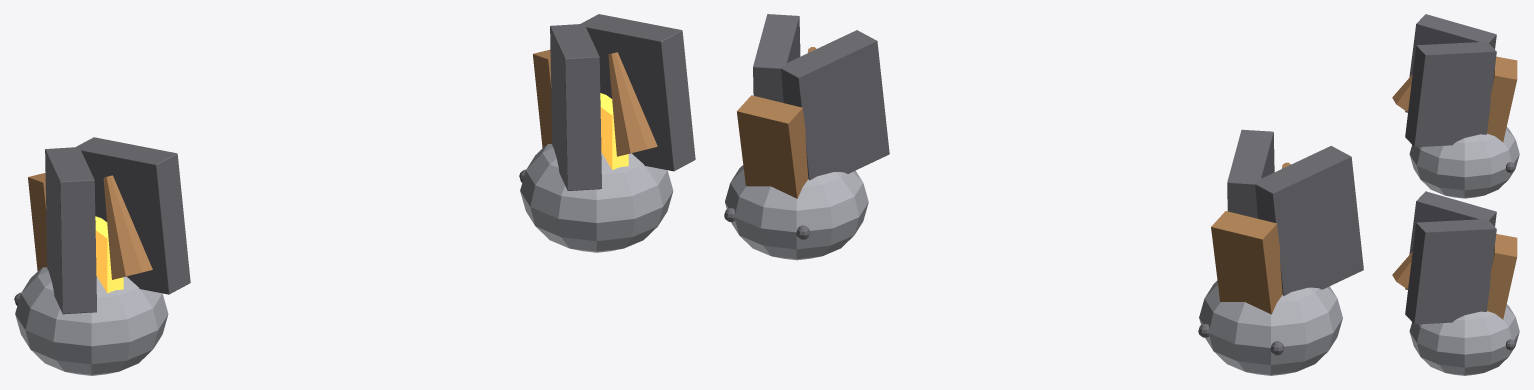
File: fracture-crest.glb
The picture shows the model from 3 angles, left to right: view 1: azimuth 30°, elevation 25°; view 2: azimuth 150°, elevation 25°; view 3: azimuth 270°, elevation 25°; orthographic projection. The views are drawn at different scales.
Parts seen in each view (by area): view 1: cap_l, cap_r, blade_l_r, blade_l_l, blade_r_l, blade_r_r, spike_r, spike_l, blade_f_r, blade_f_l, fault_l, fault_r; view 2: blade_r_l, blade_r_r, cap_l, cap_r, blade_f_l, blade_f_r, blade_l_r, blade_l_l; view 3: blade_l_l, blade_l_r, cap_r, cap_l, blade_r_l, blade_r_r, blade_f_r, blade_f_l, spike_r, spike_l.
Boxes of the visible parts, box(x1,y1,x2,y2) form: cap_l: box(520, 144, 673, 252); cap_r: box(15, 267, 168, 375); blade_l_r: box(75, 137, 190, 294); blade_l_l: box(580, 14, 695, 171); blade_r_l: box(550, 24, 601, 190); blade_r_r: box(45, 147, 96, 314); spike_r: box(103, 175, 152, 279); spike_l: box(608, 52, 657, 156); blade_f_r: box(28, 173, 47, 270); blade_f_l: box(533, 49, 551, 147); fault_l: box(600, 93, 628, 169); fault_r: box(95, 216, 123, 293); blade_r_l: box(781, 30, 889, 180); blade_r_r: box(1255, 146, 1363, 295); cap_l: box(725, 165, 868, 260); cap_r: box(1199, 280, 1342, 375); blade_f_l: box(737, 95, 808, 198); blade_f_r: box(1211, 211, 1282, 314); blade_l_r: box(1227, 129, 1274, 218); blade_l_l: box(753, 14, 800, 102); blade_l_l: box(1405, 219, 1496, 324); blade_l_r: box(1405, 42, 1496, 146); cap_r: box(1409, 127, 1519, 198); cap_l: box(1409, 304, 1519, 375); blade_r_l: box(1405, 191, 1496, 289); blade_r_r: box(1405, 14, 1496, 112); blade_f_r: box(1487, 56, 1517, 142); blade_f_l: box(1487, 234, 1517, 319); spike_r: box(1392, 74, 1412, 111); spike_l: box(1392, 252, 1412, 288).
Size of the model in its own units: 1.16 by 0.3828 by 0.2801.
